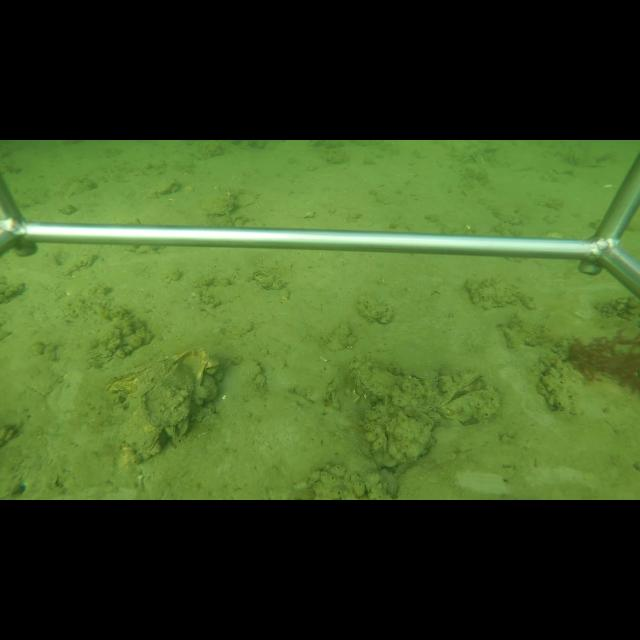Oyster-Closed: (140, 348, 208, 428), (106, 356, 174, 398), (118, 407, 162, 453), (354, 365, 398, 399), (411, 369, 442, 386), (427, 411, 441, 423), (429, 387, 439, 403), (423, 398, 433, 408)
Oyster-Open: (438, 370, 496, 420), (204, 355, 220, 375)
